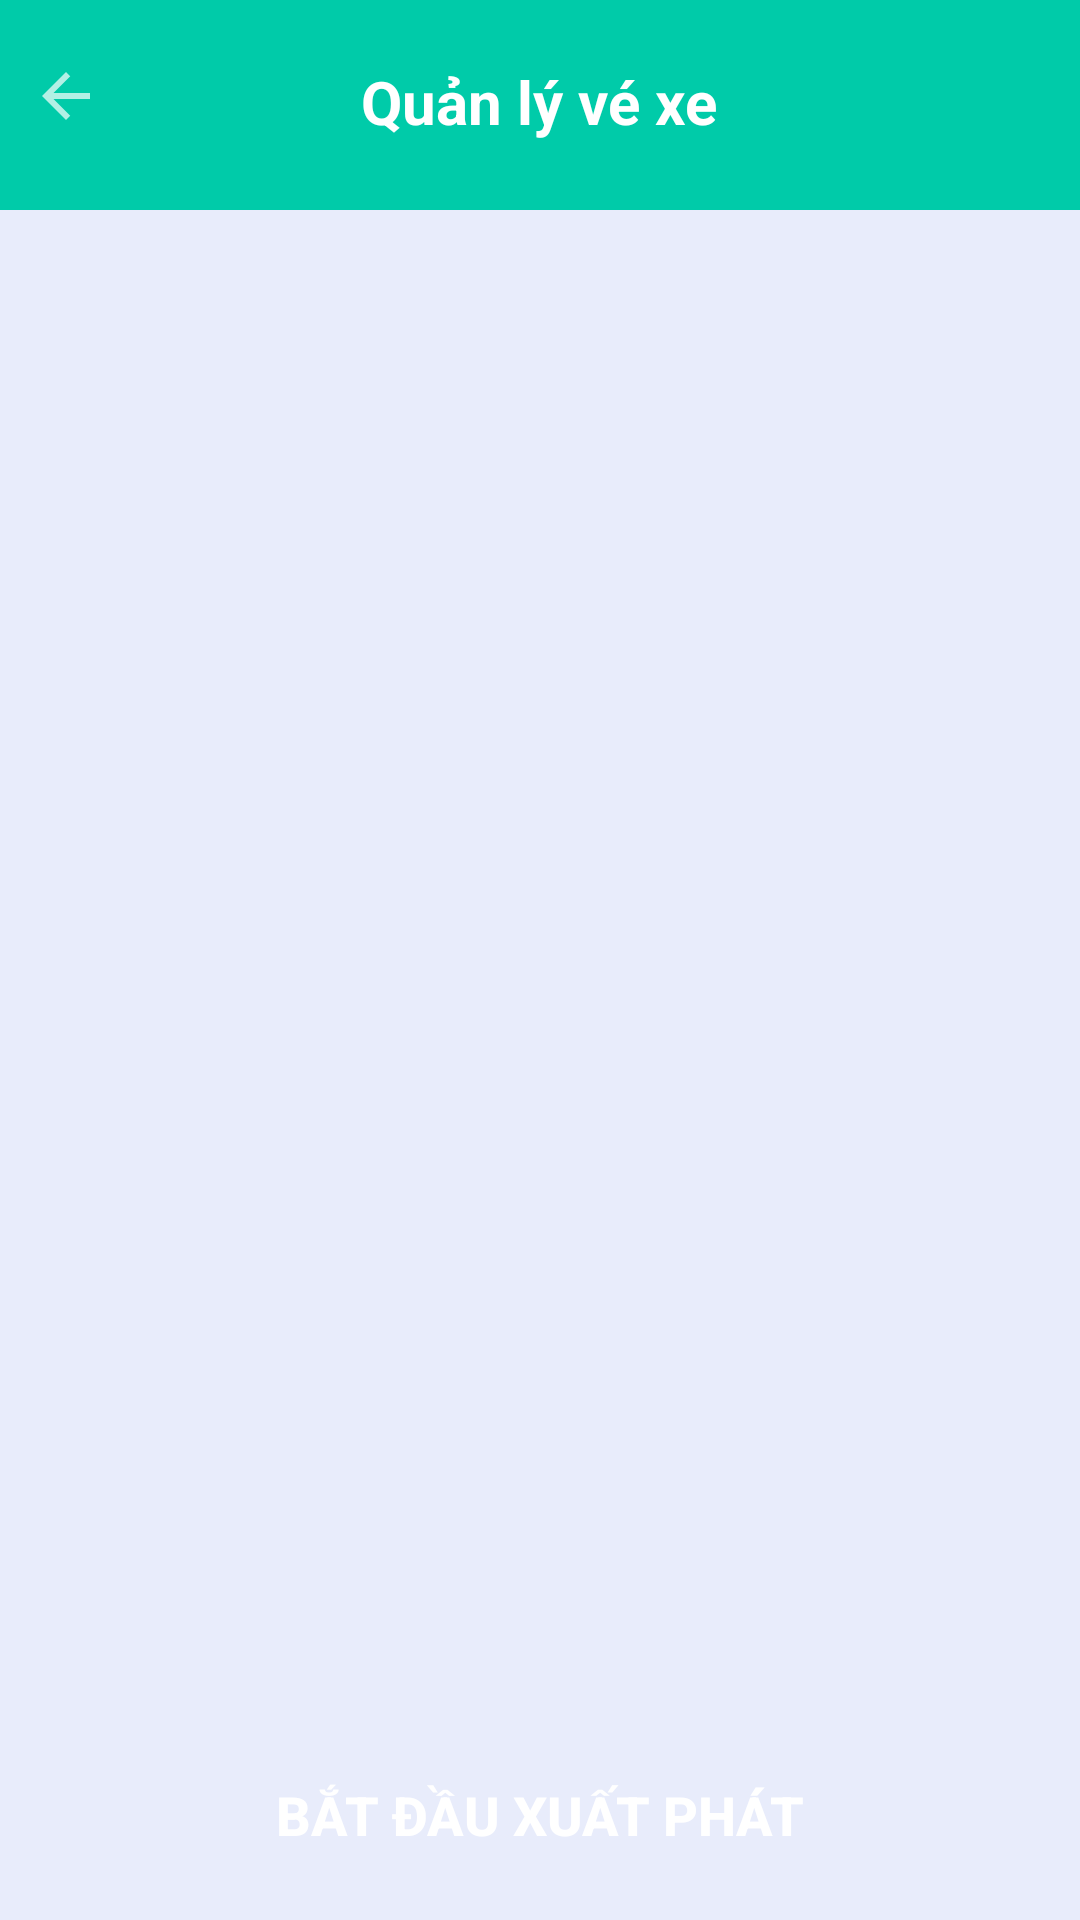

Icon bounding boxes for this 1080*1920 phone screenshot, format detection(x1, y1, x2, y2):
arrow back: detection(42, 72, 90, 120)
